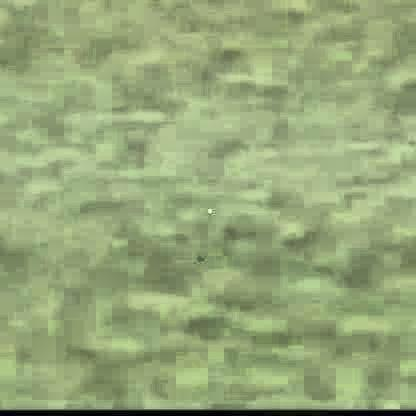golfball: (203, 205, 210, 212)
